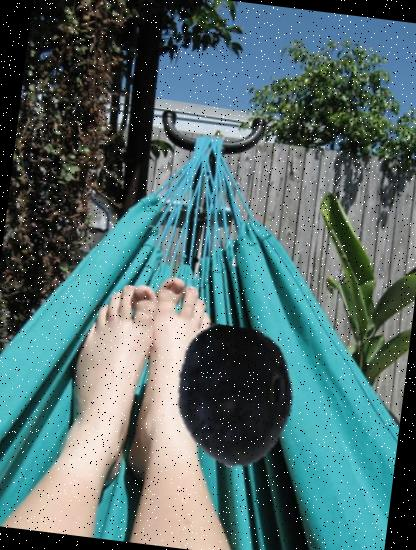Blueberry: (156, 319, 313, 476)
